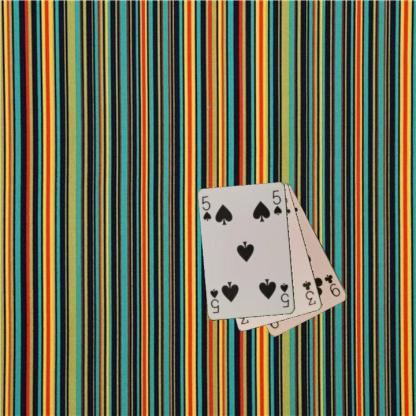3c: (300, 278, 317, 307)
5s: (277, 280, 291, 309), (199, 194, 213, 223)
9c: (322, 272, 342, 298)
